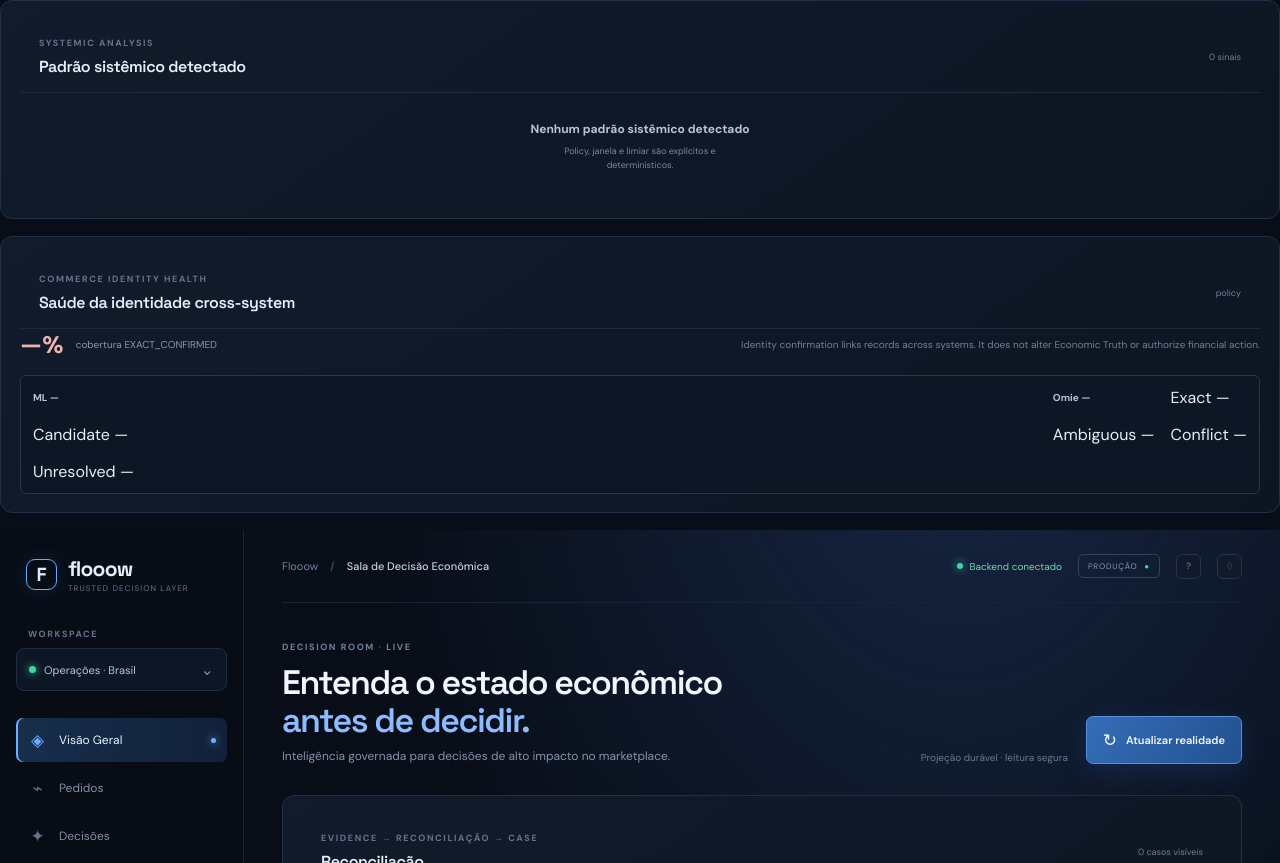
Test case: Decision Room › surfaces refresh failure without inventing a result
The width and height of the screenshot is (1280, 863).
What coordinates should you click on to do the following:
click the button "↻ Atualizar realidade"
I would click on:
 (1164, 740)
Its box is [1086, 716, 1242, 764].
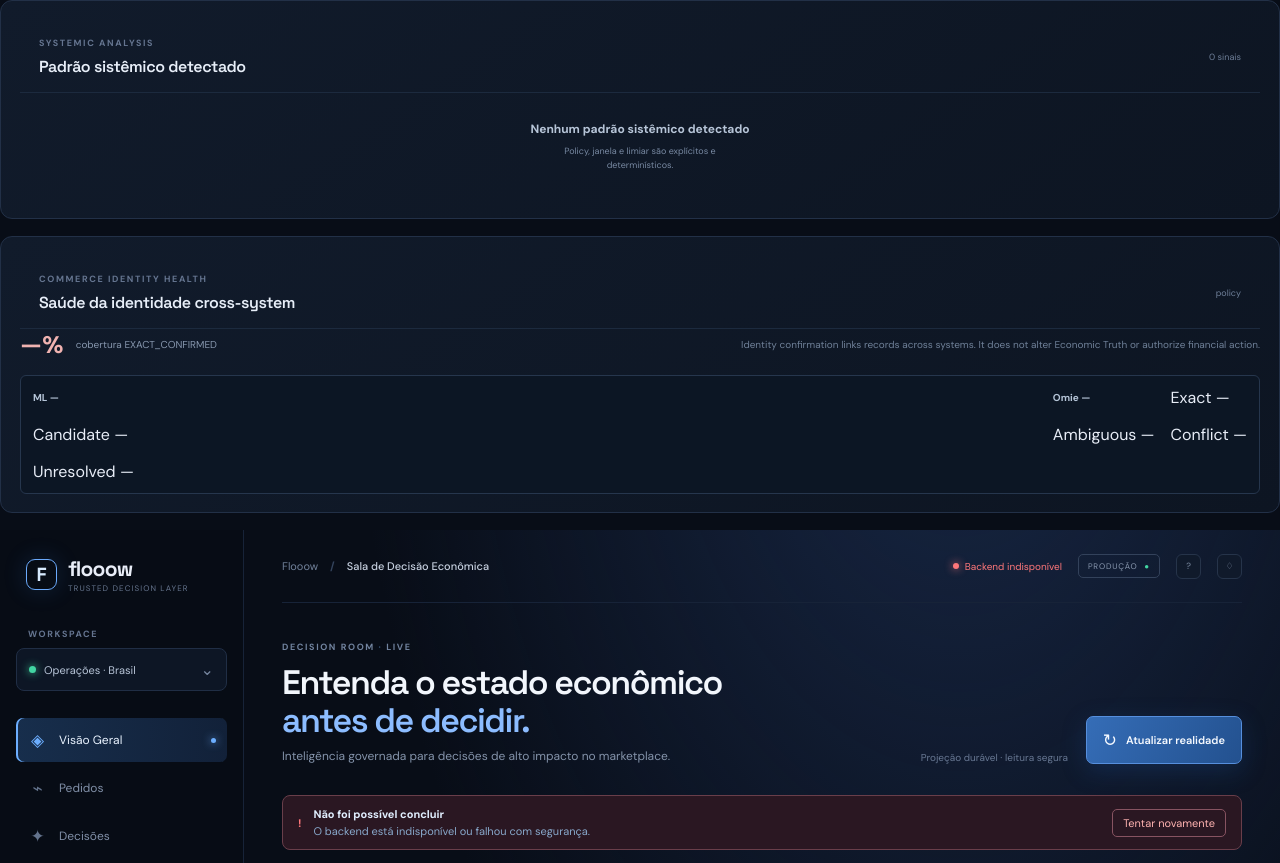
Now the message shows "O backend está indisponível", box [313, 824, 590, 838]
